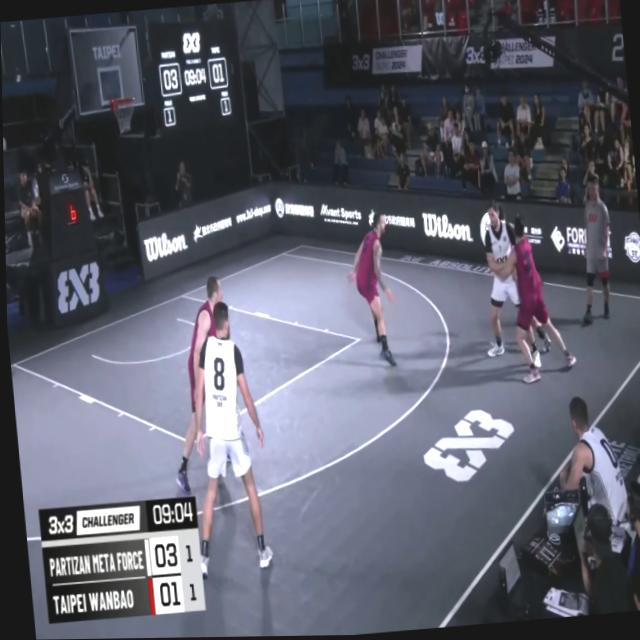hoop: (109, 92, 137, 139)
player: (173, 297, 275, 578), (157, 267, 244, 501), (497, 213, 571, 385), (470, 192, 533, 360), (341, 214, 399, 381)
